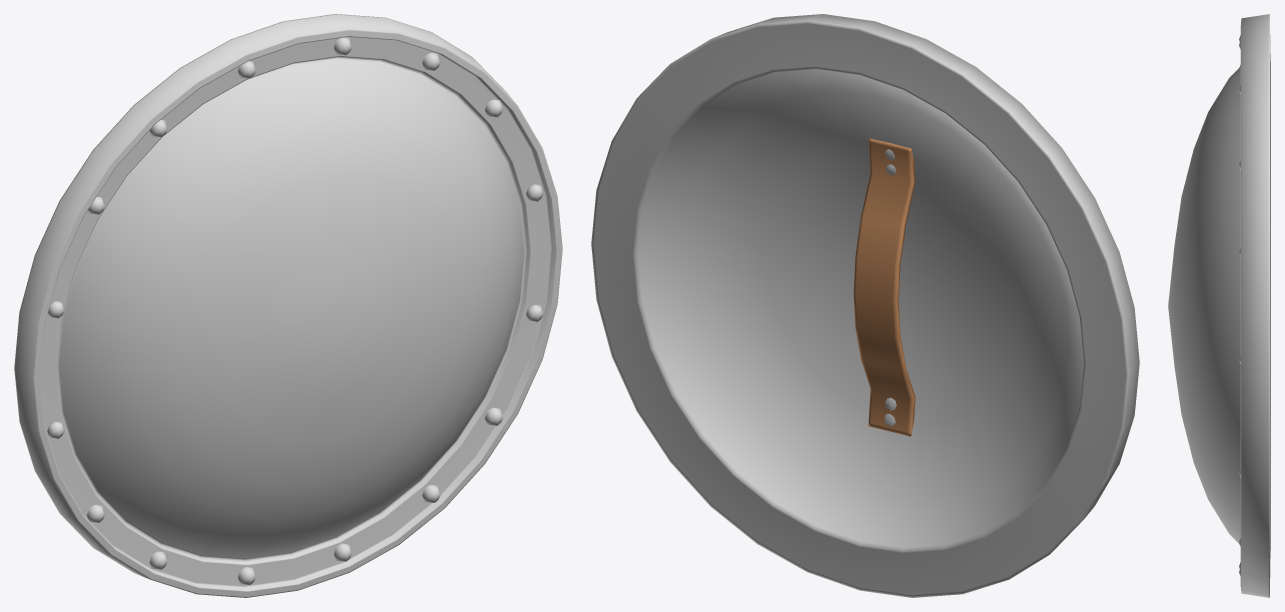
The model's file is Buckler.fbx.
3 renders of one model, left to right at view 1: azimuth 30°, elevation 25°; view 2: azimuth 150°, elevation 25°; view 3: azimuth 270°, elevation 25°, orthographic. The views are drawn at different scales.
Visible parts, largest first — view 1: Buckler_LOD0; view 2: Buckler_LOD0; view 3: Buckler_LOD0.
Part boxes in pixels (x1,y1,x2,y2): Buckler_LOD0: (14,14,562,597); Buckler_LOD0: (591,14,1139,597); Buckler_LOD0: (1168,14,1270,597).
Size of what is drawn, in the model's own units: 51.73 by 51.73 by 9.09.
